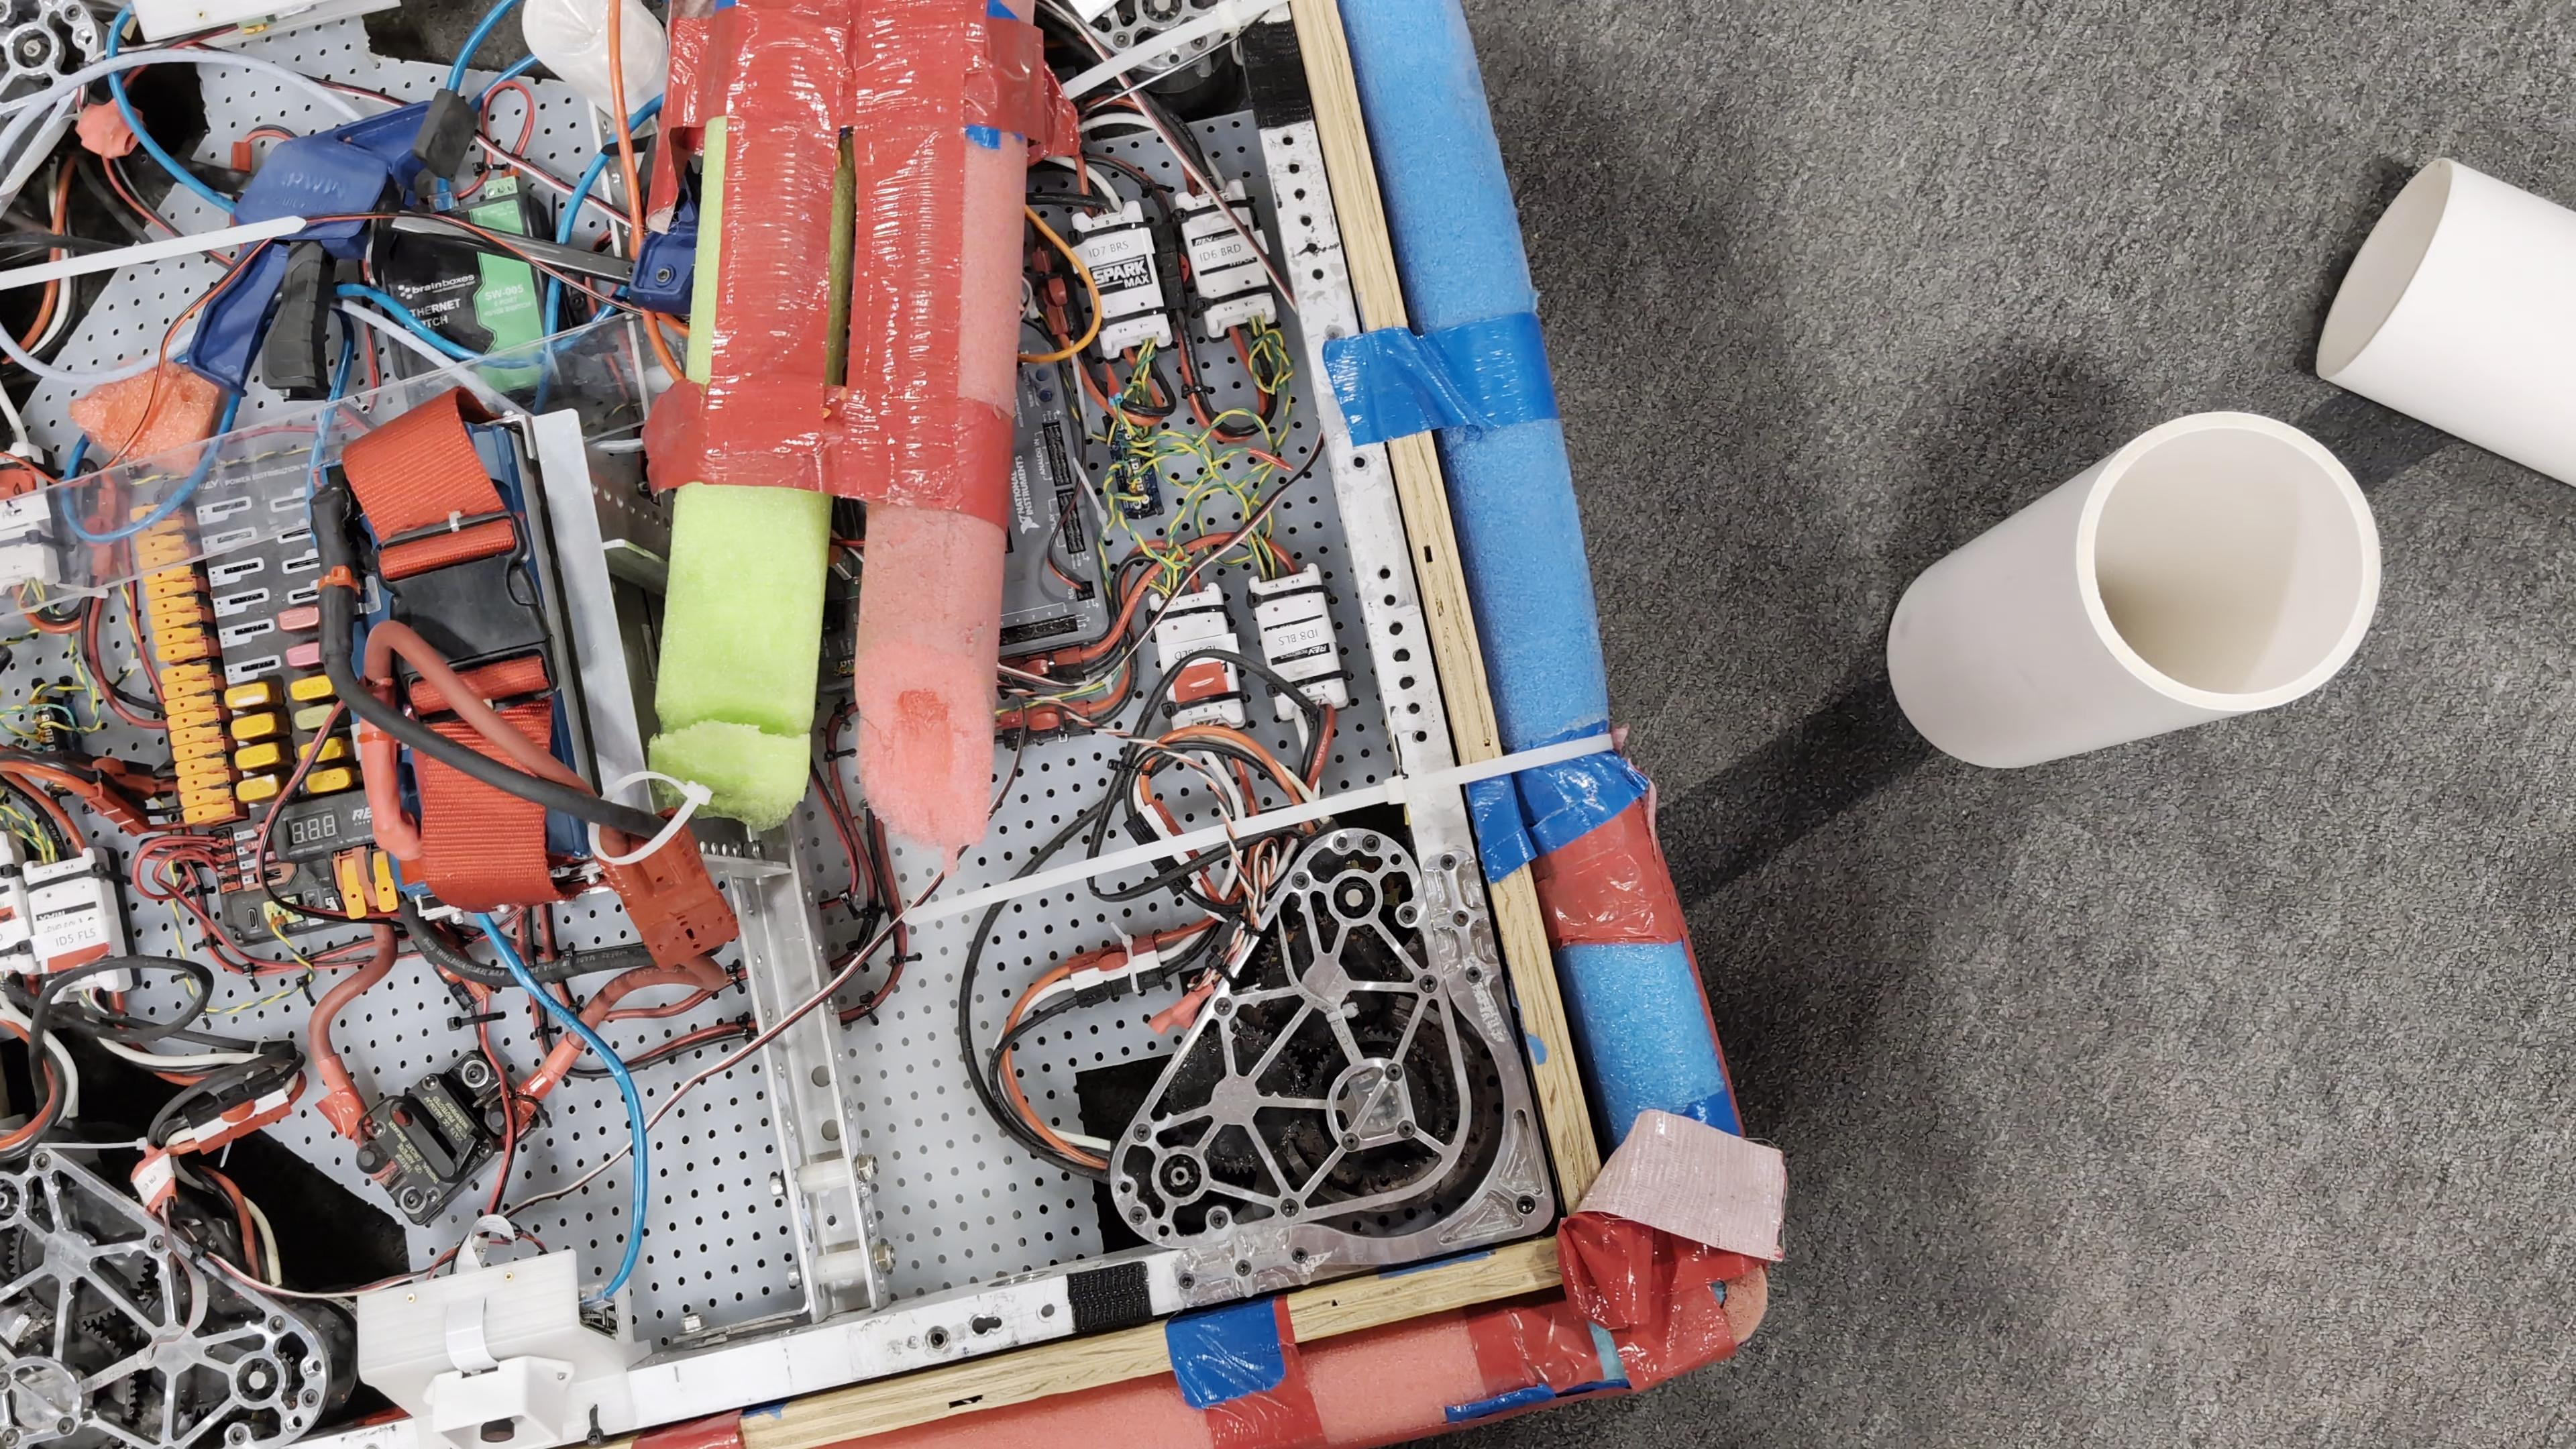coral: (1884, 403, 2387, 773), (2318, 156, 2576, 488)
